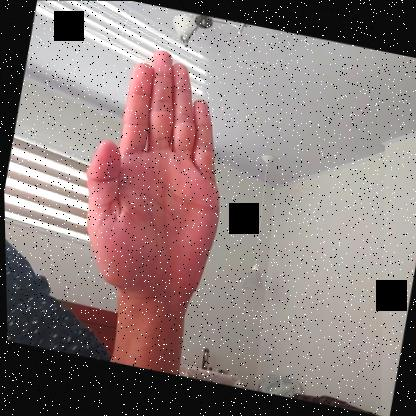B: (61, 39, 250, 307)
